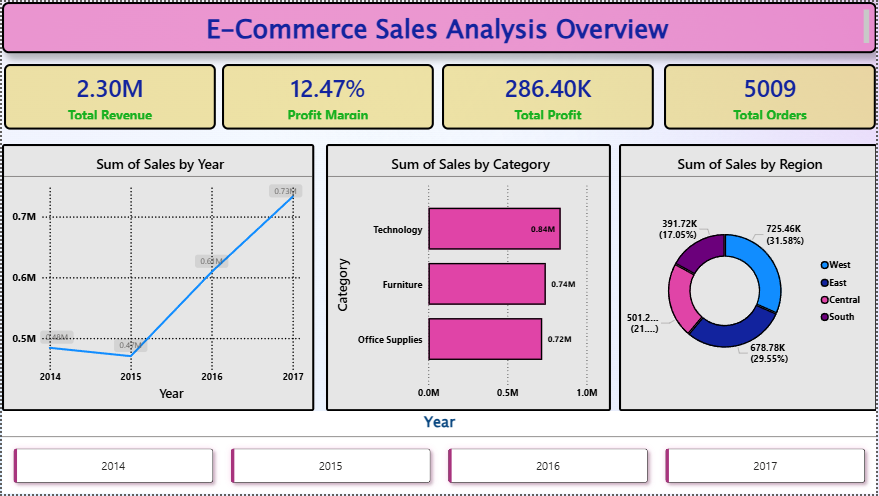

What the dashboard file says about the page in this screenshot:
{"tool":"powerbi","page":{"name":"Overview","canvas":[1280,720],"ordinal":0},"visuals":[{"type":"card","fields":{"Values":["clean.Total Revenue"]},"box":[3.3,90.7,310,96],"z":0},{"type":"card","fields":{"Values":["clean.Total Orders"]},"box":[969.3,90.7,310,96],"z":1000},{"type":"card","fields":{"Values":["clean.Profit Margin"]},"box":[322.3,90.7,310,96],"z":2000},{"type":"card","fields":{"Values":["clean.Total Profit"]},"box":[643.3,90.7,310,96],"z":3000},{"type":"lineChart","fields":{"Category":["clean.Order Date.Variation.Date Hierarchy.Year","clean.Order Date.Variation.Date Hierarchy.Quarter","clean.Order Date.Variation.Date Hierarchy.Month","clean.Order Date.Variation.Date Hierarchy.Day"],"Y":["Sum(clean.Sales)"]},"box":[0,207.8,456.6,390.7],"z":4000},{"type":"clusteredBarChart","fields":{"Category":["clean.Category"],"Y":["Sum(clean.Sales)"]},"box":[474.1,207.8,417.1,390.7],"z":5000},{"type":"donutChart","fields":{"Category":["clean.Region"],"Y":["Sum(clean.Sales)"]},"box":[902.9,207.8,377.6,390.7],"z":6000},{"type":"advancedSlicerVisual","fields":{"Values":["clean.Order Date.Variation.Date Hierarchy.Year"]},"box":[0,598.5,1280.5,121.5],"z":7000},{"type":"textbox","title":"E commerce","box":[0,0,1280.5,74.6],"z":8000}]}

Visuals, with their boxes in screenshot pixels (x1, y1, x2, y2), scaled from the page's 1280x720 canvas onto the 879x496 screenshot:
card - clean.Total Revenue: BBox(2, 62, 215, 129)
card - clean.Total Orders: BBox(666, 62, 878, 129)
card - clean.Profit Margin: BBox(221, 62, 434, 129)
card - clean.Total Profit: BBox(442, 62, 655, 129)
lineChart - clean.Order Date.Variation.Date Hierarchy.Year x clean.Order Date.Variation.Date Hierarchy.Quarter: BBox(0, 143, 314, 412)
clusteredBarChart - clean.Category x Sum(clean.Sales): BBox(326, 143, 612, 412)
donutChart - clean.Region x Sum(clean.Sales): BBox(620, 143, 878, 412)
advancedSlicerVisual - clean.Order Date.Variation.Date Hierarchy.Year: BBox(0, 412, 878, 495)
"E commerce" textbox: BBox(0, 0, 878, 51)
